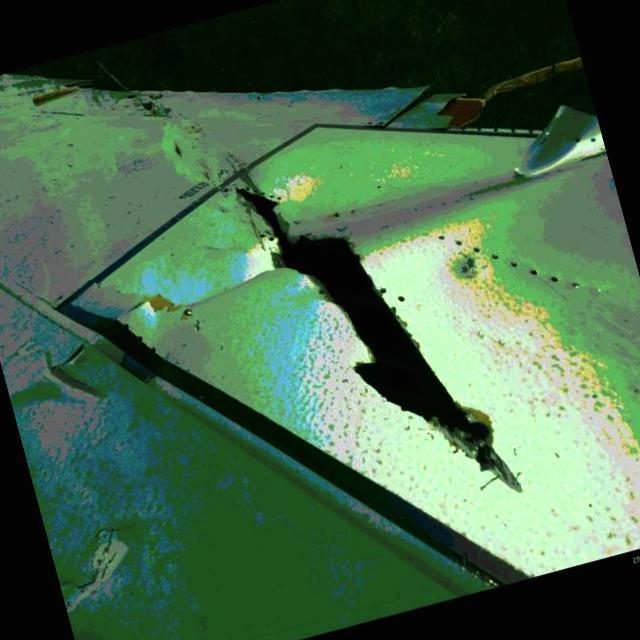crack: (230, 133, 526, 550)
